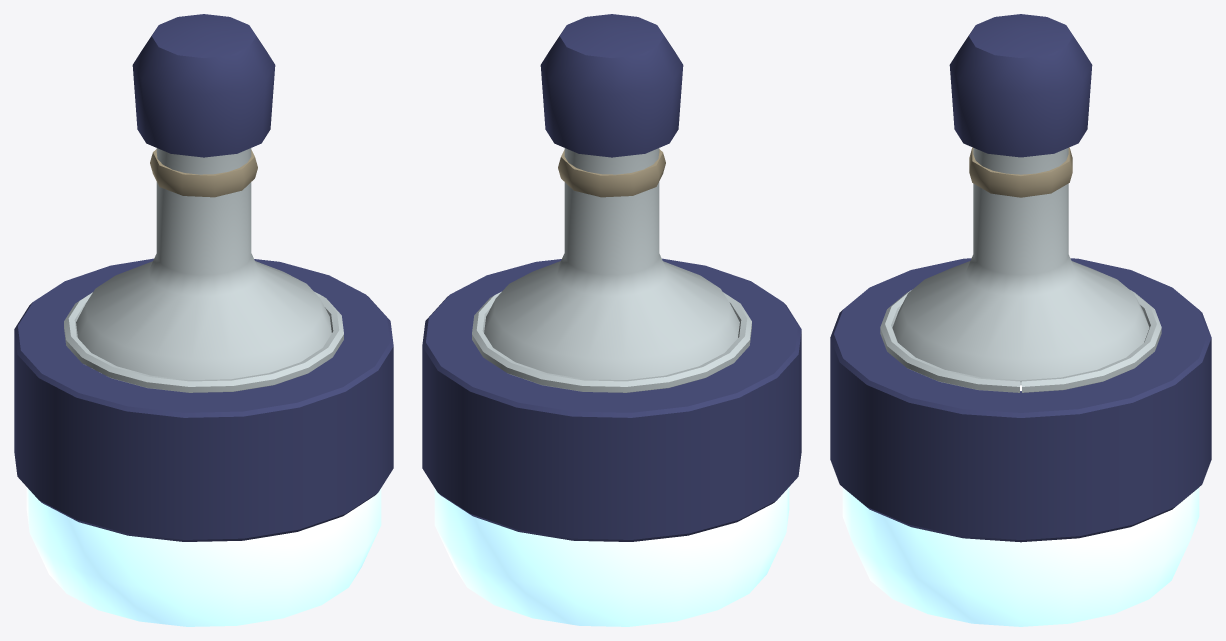
File: frostward_potion.glb
3 renders of one model, left to right at view 1: azimuth 30°, elevation 25°; view 2: azimuth 150°, elevation 25°; view 3: azimuth 270°, elevation 25°, orthographic.
Visible parts, largest first — view 1: frostward_potion; view 2: frostward_potion; view 3: frostward_potion.
Part boxes in pixels (x1=…): frostward_potion: x1=14, y1=14, x2=393, y2=626; frostward_potion: x1=422, y1=14, x2=801, y2=626; frostward_potion: x1=830, y1=14, x2=1211, y2=626.
Bounding box in the file's own units: 0.0963 × 0.148 × 0.0963.
